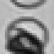correct: (5, 18, 48, 54)
